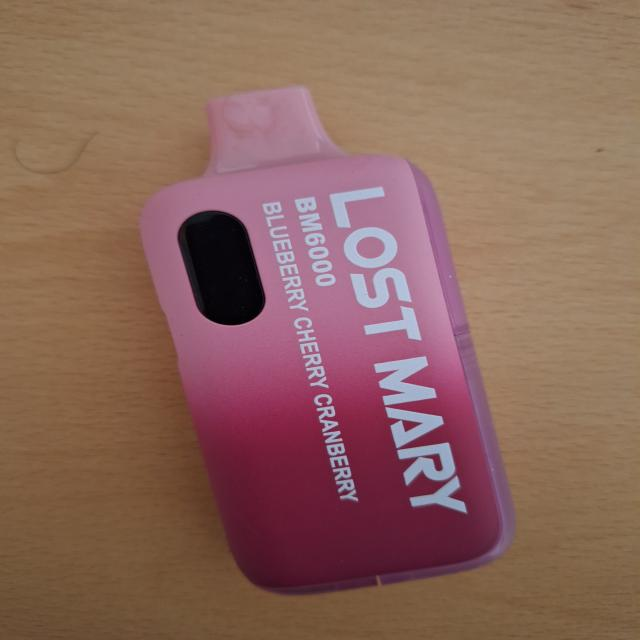Hazard: (137, 84, 518, 594)
